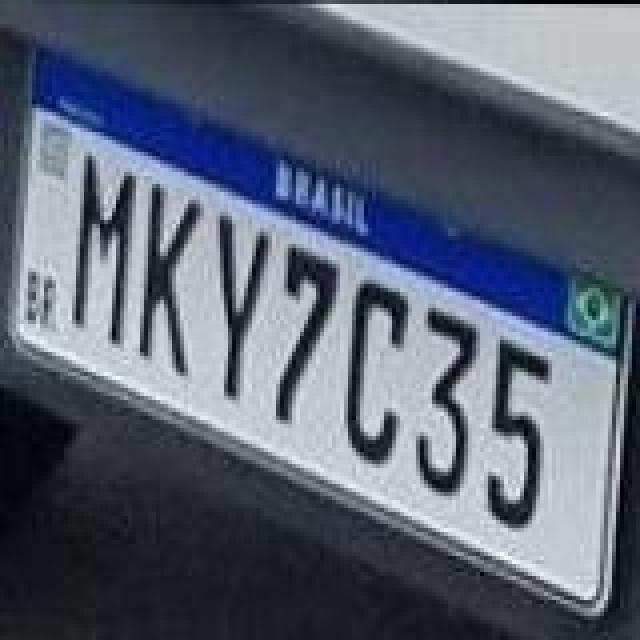3: (414, 300, 482, 496)
5: (484, 336, 556, 528)
7: (270, 242, 338, 426)
C: (342, 274, 410, 466)
K: (138, 184, 206, 380)
M: (70, 148, 138, 348)
Y: (212, 210, 276, 402)
